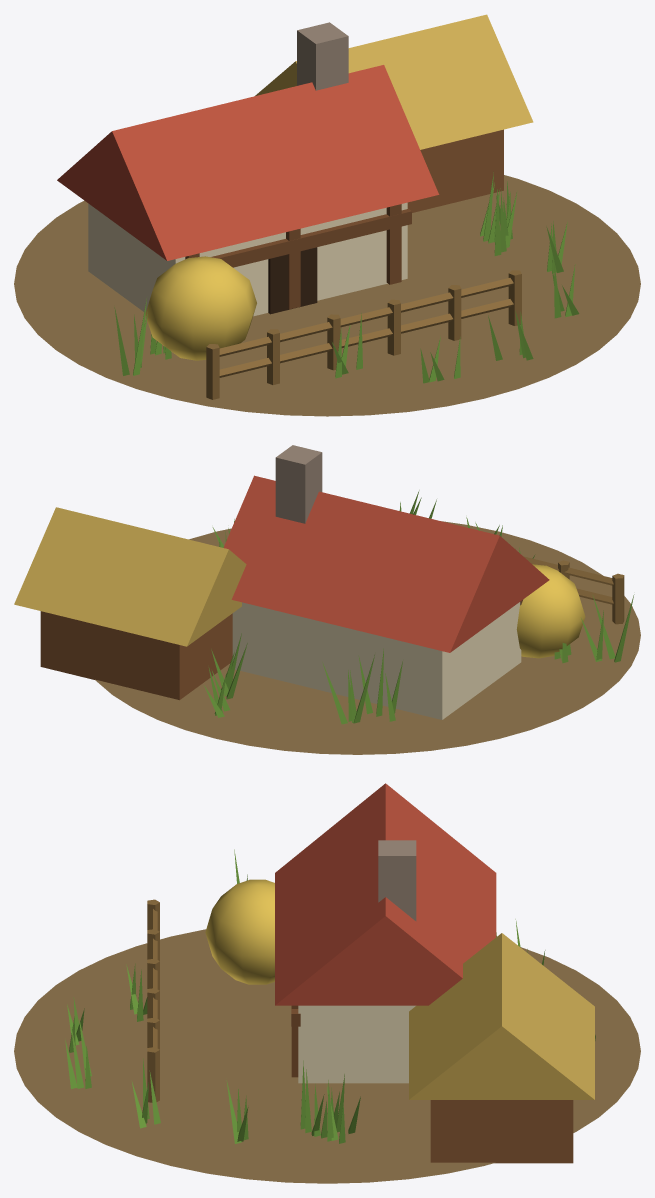
File: improvement_farmhouse_1.fbx
3 renders of one model, top to bottom at view 1: azimuth 30°, elevation 25°; view 2: azimuth 150°, elevation 25°; view 3: azimuth 270°, elevation 25°, orthographic. The views are drawn at different scales.
Visible parts, largest first — view 1: improvement_farmhouse_1_gpatch#8a7048r.001_00, improvement_farmhouse_1_tilesr_03, improvement_farmhouse_1_thatchb_08, improvement_farmhouse_1_fhplaster.001_02, improvement_farmhouse_1_wood#8a6a3a.005_10, improvement_farmhouse_1_hay.002_09, improvement_farmhouse_1_leaf#6a9a3a.022_01, improvement_farmhouse_1_timber_05, improvement_farmhouse_1_barnw_07, improvement_farmhouse_1_chim_06, improvement_farmhouse_1_door.012_04; view 2: improvement_farmhouse_1_tilesr_03, improvement_farmhouse_1_gpatch#8a7048r.001_00, improvement_farmhouse_1_thatchb_08, improvement_farmhouse_1_fhplaster.001_02, improvement_farmhouse_1_barnw_07, improvement_farmhouse_1_hay.002_09, improvement_farmhouse_1_leaf#6a9a3a.022_01, improvement_farmhouse_1_chim_06, improvement_farmhouse_1_wood#8a6a3a.005_10; view 3: improvement_farmhouse_1_gpatch#8a7048r.001_00, improvement_farmhouse_1_tilesr_03, improvement_farmhouse_1_thatchb_08, improvement_farmhouse_1_barnw_07, improvement_farmhouse_1_fhplaster.001_02, improvement_farmhouse_1_hay.002_09, improvement_farmhouse_1_leaf#6a9a3a.022_01, improvement_farmhouse_1_chim_06, improvement_farmhouse_1_wood#8a6a3a.005_10, improvement_farmhouse_1_timber_05.
Boxes of the visible parts, x1,y1,x2,y2 form: improvement_farmhouse_1_gpatch#8a7048r.001_00: (14, 175, 640, 416); improvement_farmhouse_1_tilesr_03: (57, 65, 439, 260); improvement_farmhouse_1_thatchb_08: (255, 14, 533, 149); improvement_farmhouse_1_fhplaster.001_02: (88, 202, 407, 316); improvement_farmhouse_1_wood#8a6a3a.005_10: (206, 270, 521, 399); improvement_farmhouse_1_hay.002_09: (145, 256, 256, 360); improvement_farmhouse_1_leaf#6a9a3a.022_01: (114, 172, 579, 383); improvement_farmhouse_1_timber_05: (185, 204, 411, 309); improvement_farmhouse_1_barnw_07: (407, 129, 503, 212); improvement_farmhouse_1_chim_06: (297, 22, 348, 90); improvement_farmhouse_1_door.012_04: (268, 247, 317, 314); improvement_farmhouse_1_tilesr_03: (223, 475, 549, 652); improvement_farmhouse_1_gpatch#8a7048r.001_00: (95, 521, 640, 754); improvement_farmhouse_1_thatchb_08: (14, 507, 246, 646); improvement_farmhouse_1_fhplaster.001_02: (232, 602, 521, 719); improvement_farmhouse_1_barnw_07: (40, 611, 232, 700); improvement_farmhouse_1_hay.002_09: (516, 564, 585, 658); improvement_farmhouse_1_leaf#6a9a3a.022_01: (204, 490, 634, 724); improvement_farmhouse_1_chim_06: (275, 445, 322, 523); improvement_farmhouse_1_wood#8a6a3a.005_10: (514, 548, 624, 624); improvement_farmhouse_1_gpatch#8a7048r.001_00: (14, 929, 640, 1183); improvement_farmhouse_1_tilesr_03: (275, 783, 496, 1005); improvement_farmhouse_1_thatchb_08: (409, 933, 594, 1099); improvement_farmhouse_1_barnw_07: (430, 1100, 573, 1163); improvement_farmhouse_1_fhplaster.001_02: (298, 1005, 415, 1083); improvement_farmhouse_1_hay.002_09: (205, 879, 274, 984); improvement_farmhouse_1_leaf#6a9a3a.022_01: (65, 849, 595, 1143); improvement_farmhouse_1_chim_06: (378, 840, 416, 921); improvement_farmhouse_1_wood#8a6a3a.005_10: (147, 899, 159, 1102); improvement_farmhouse_1_timber_05: (291, 1005, 300, 1077).
Size of the model in its own units: 108 by 42.73 by 108.
